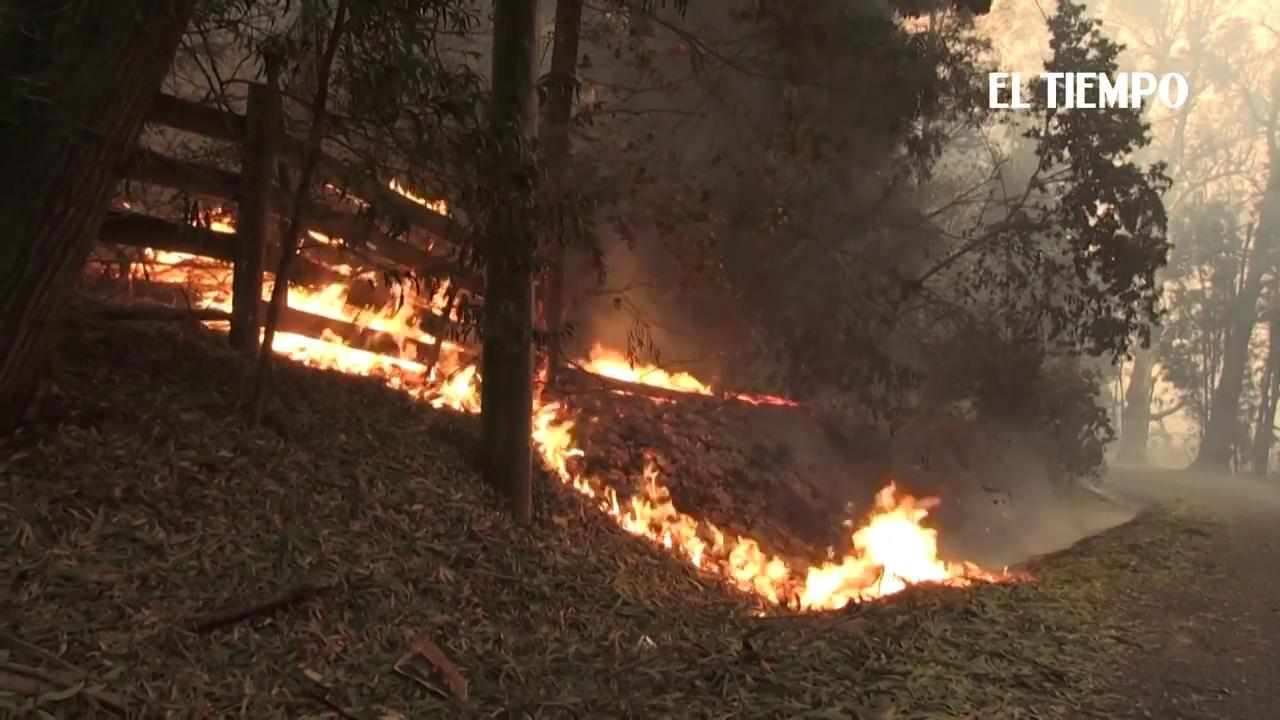Fire: (605, 450, 977, 614), (267, 253, 483, 409), (533, 360, 595, 495), (138, 249, 236, 332), (579, 344, 713, 398), (387, 175, 451, 219), (728, 387, 801, 411), (204, 203, 240, 235)
